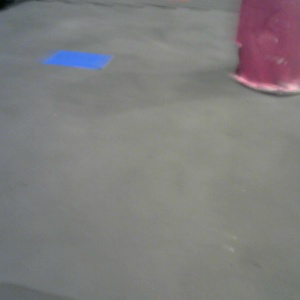Right: (230, 1, 300, 93)
